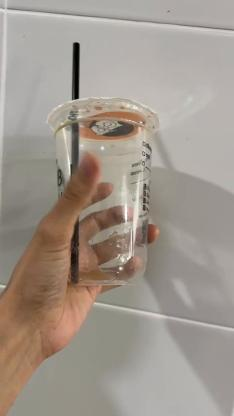Plastic Cup: (47, 97, 161, 287)
